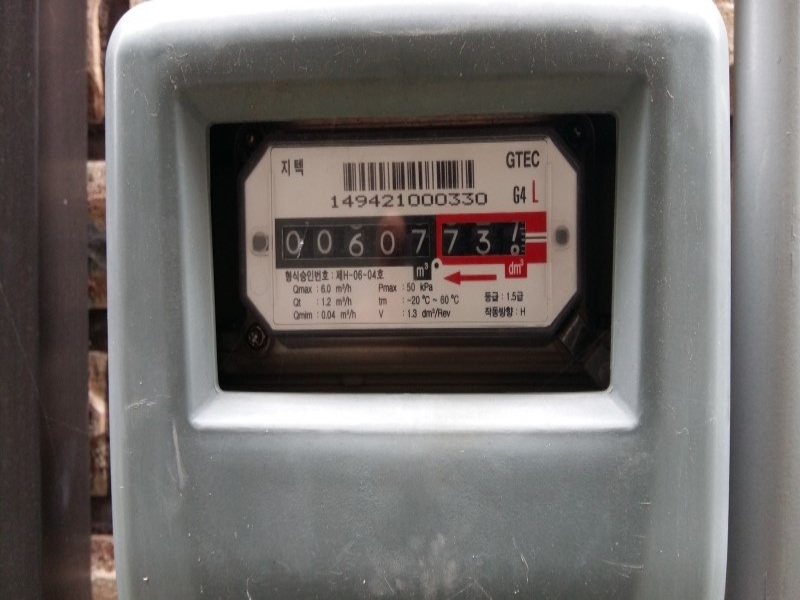meter: (227, 129, 602, 340)
